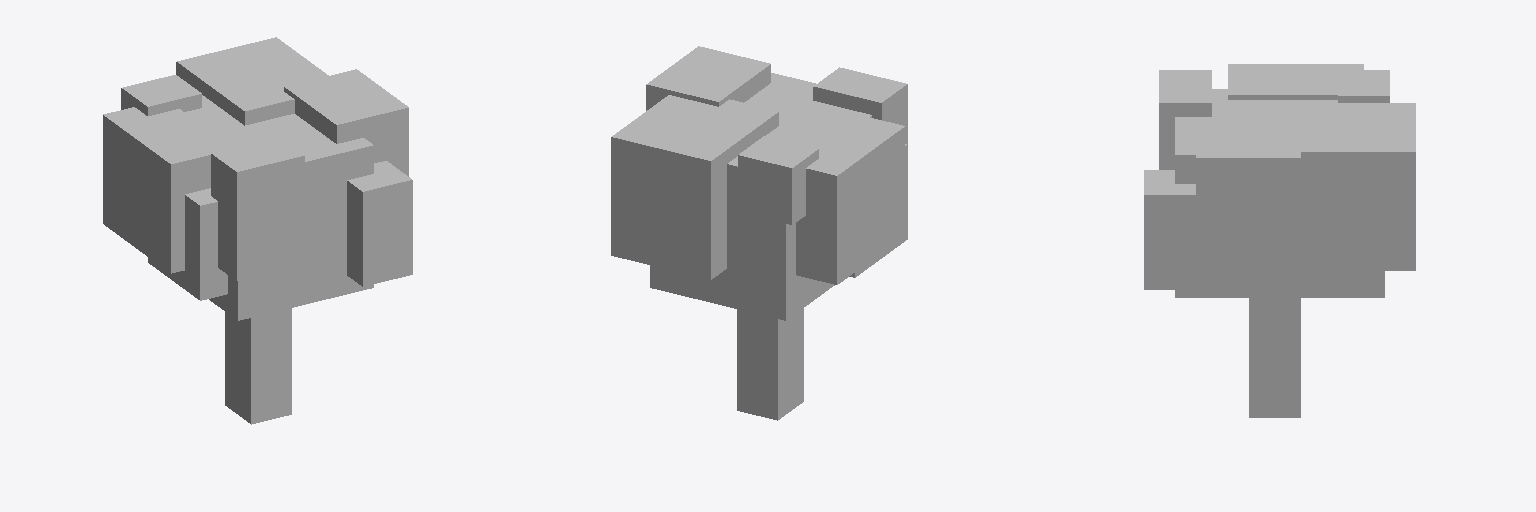
Rendered from tree.obj.
The picture shows the model from 3 angles: view 1: azimuth 30°, elevation 25°; view 2: azimuth 150°, elevation 25°; view 3: azimuth 270°, elevation 25°; orthographic projection.
Parts seen in each view (by area): view 1: cube; view 2: cube; view 3: cube.
Part boxes in pixels (left/top/right/bottom): cube: left=103, top=37, right=412, bottom=424; cube: left=611, top=46, right=907, bottom=420; cube: left=1144, top=64, right=1415, bottom=417.
Bounding box in the file's own units: 0.3063 × 0.4 × 0.325.